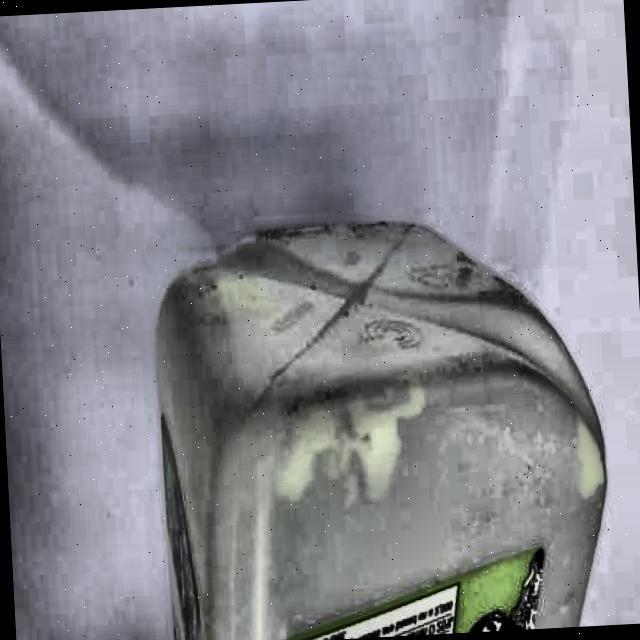plastic: (145, 210, 593, 640)
